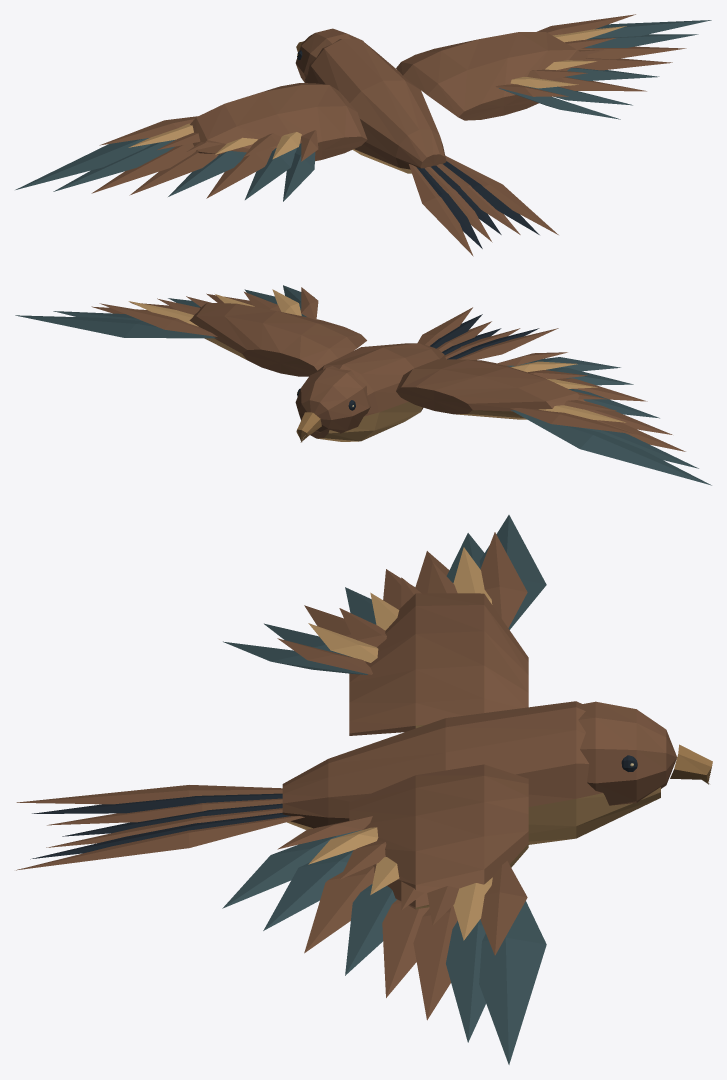
File: kite.glb
The picture shows the model from 3 angles, top to bottom: view 1: azimuth 30°, elevation 25°; view 2: azimuth 150°, elevation 25°; view 3: azimuth 270°, elevation 25°; orthographic projection. The views are drawn at different scales.
Parts seen in each view (by area): view 1: WingL, WingR, Body, Tail, Head; view 2: WingL, WingR, Body, Head, Tail; view 3: WingR, WingL, Body, Tail, Head.
Boxes of the visible parts, x1=… form: WingL: x1=15, y1=83, x2=367, y2=201; WingR: x1=396, y1=14, x2=711, y2=120; Body: x1=305, y1=39, x2=446, y2=173; Tail: x1=409, y1=156, x2=558, y2=256; Head: x1=295, y1=28, x2=363, y2=82; WingL: x1=396, y1=352, x2=711, y2=485; WingR: x1=15, y1=285, x2=366, y2=376; Body: x1=310, y1=343, x2=445, y2=441; Head: x1=295, y1=366, x2=370, y2=442; Tail: x1=417, y1=307, x2=558, y2=359; WingR: x1=222, y1=764, x2=546, y2=1064; WingL: x1=223, y1=515, x2=546, y2=735; Body: x1=282, y1=701, x2=660, y2=844; Tail: x1=16, y1=785, x2=304, y2=870; Head: x1=578, y1=701, x2=712, y2=805.
Size of the model in its own units: 2 by 0.236 by 1.07.
